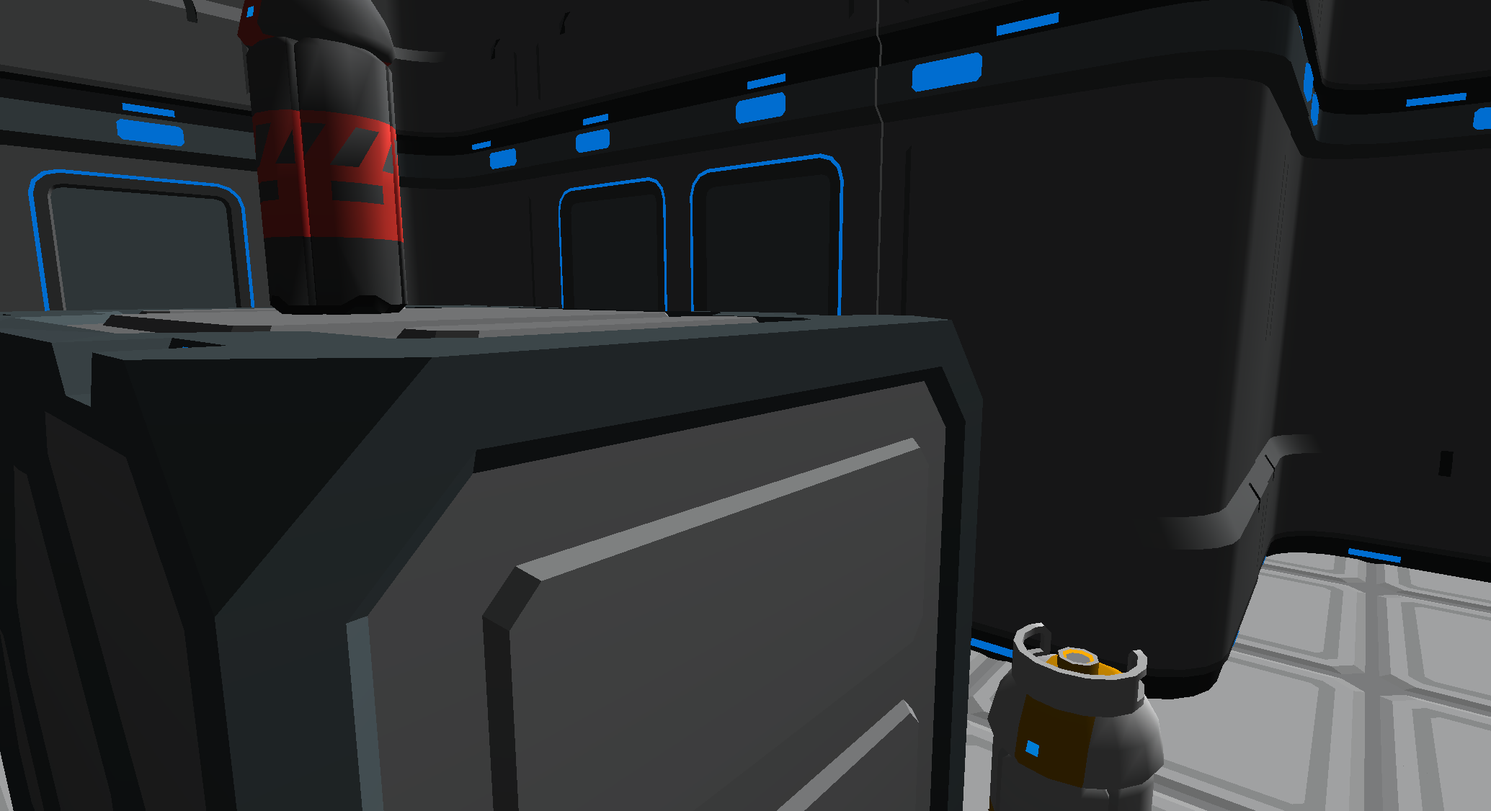red_barrel: (240, 0, 404, 313)
yellow_barrel: (989, 623, 1164, 810)
